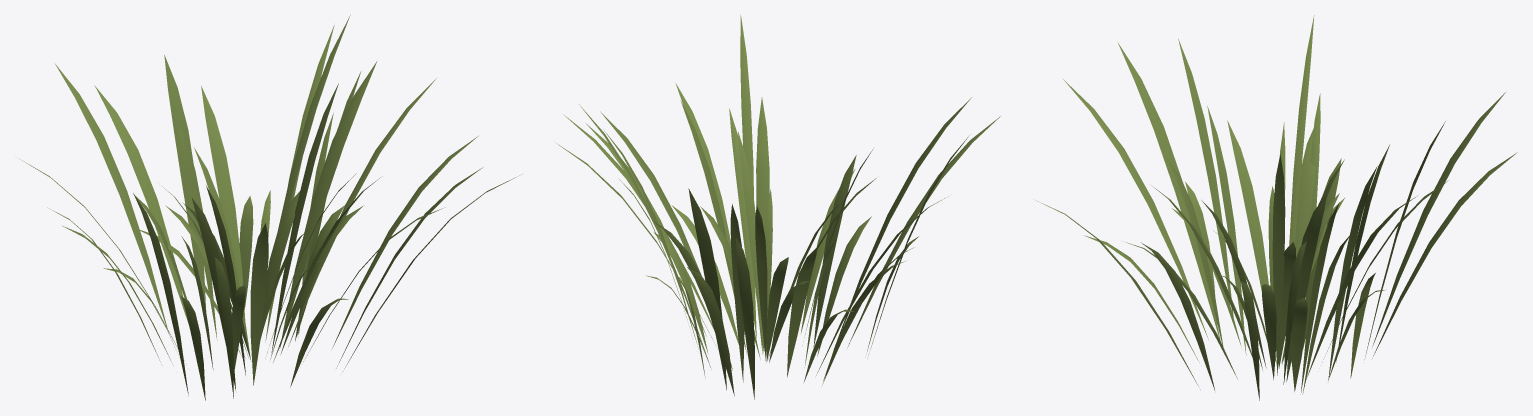
File: garden-grass-0.glb
3 renders of one model, left to right at view 1: azimuth 30°, elevation 25°; view 2: azimuth 150°, elevation 25°; view 3: azimuth 270°, elevation 25°, orthographic. The views are drawn at different scales.
Visible parts, largest first — view 1: Fine arcing grass blades; view 2: Fine arcing grass blades; view 3: Fine arcing grass blades.
Boxes of the visible parts, x1=… form: Fine arcing grass blades: x1=20, y1=14, x2=521, y2=400; Fine arcing grass blades: x1=556, y1=15, x2=1000, y2=399; Fine arcing grass blades: x1=1035, y1=15, x2=1517, y2=400.
Bounding box in the file's own units: 0.516 × 0.3154 × 0.5068.
